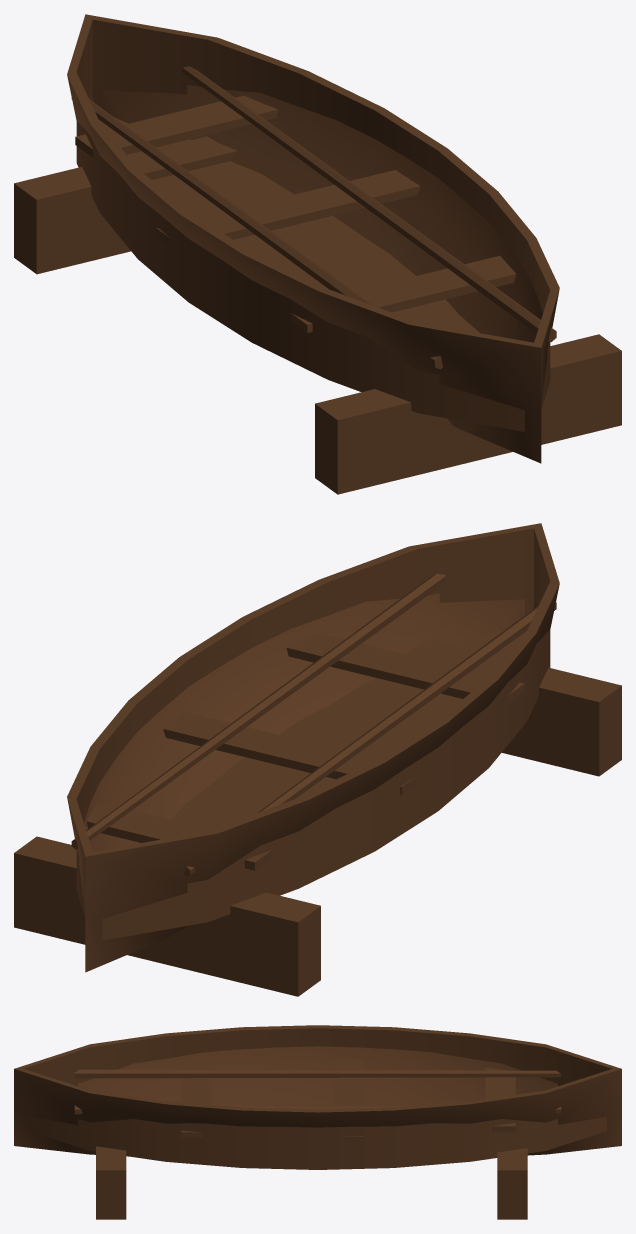
The model's file is amelioration--embarcation-de-bord.glb.
3 views of the same model, one above another, from view 1: azimuth 30°, elevation 25°; view 2: azimuth 150°, elevation 25°; view 3: azimuth 270°, elevation 25° (orthographic). The views are drawn at different scales.
Parts seen in each view (by area): view 1: canot; view 2: canot; view 3: canot.
Boxes of the visible parts, x1,y1,x2,y2 form: canot: (14,14,621,494); canot: (14,523,621,996); canot: (14,1025,621,1219).
Size of the model in its own units: 1.8 by 0.95 by 5.
